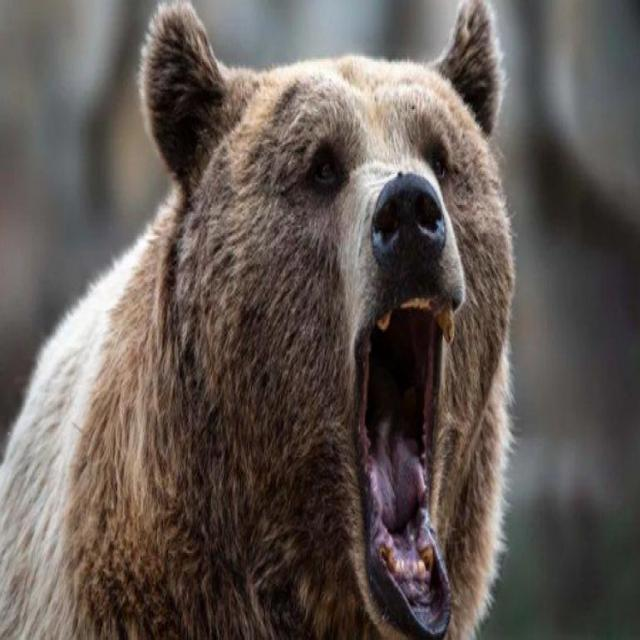Bear: (0, 0, 516, 640)
